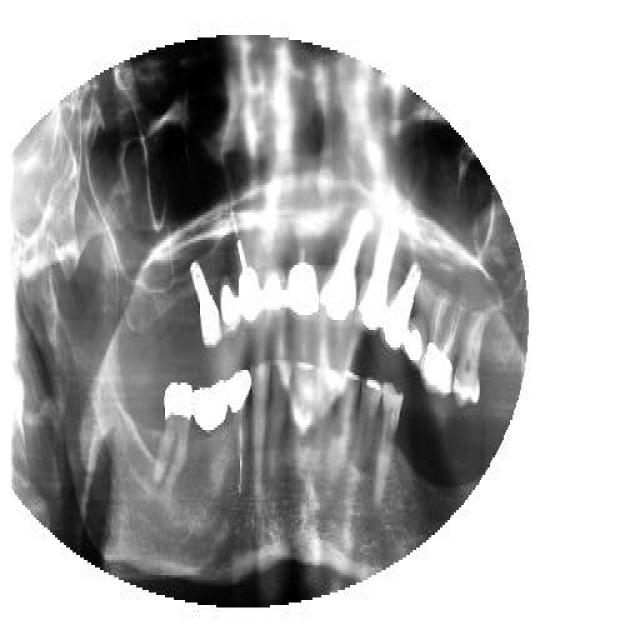Fillings: (152, 375, 192, 497), (228, 367, 252, 495), (192, 375, 228, 437), (288, 255, 318, 323), (218, 272, 242, 340), (403, 308, 428, 368), (262, 265, 288, 315)
Implant: (318, 195, 364, 330), (356, 207, 399, 335), (422, 280, 462, 400), (228, 203, 262, 325), (382, 258, 422, 350), (190, 255, 221, 355)
